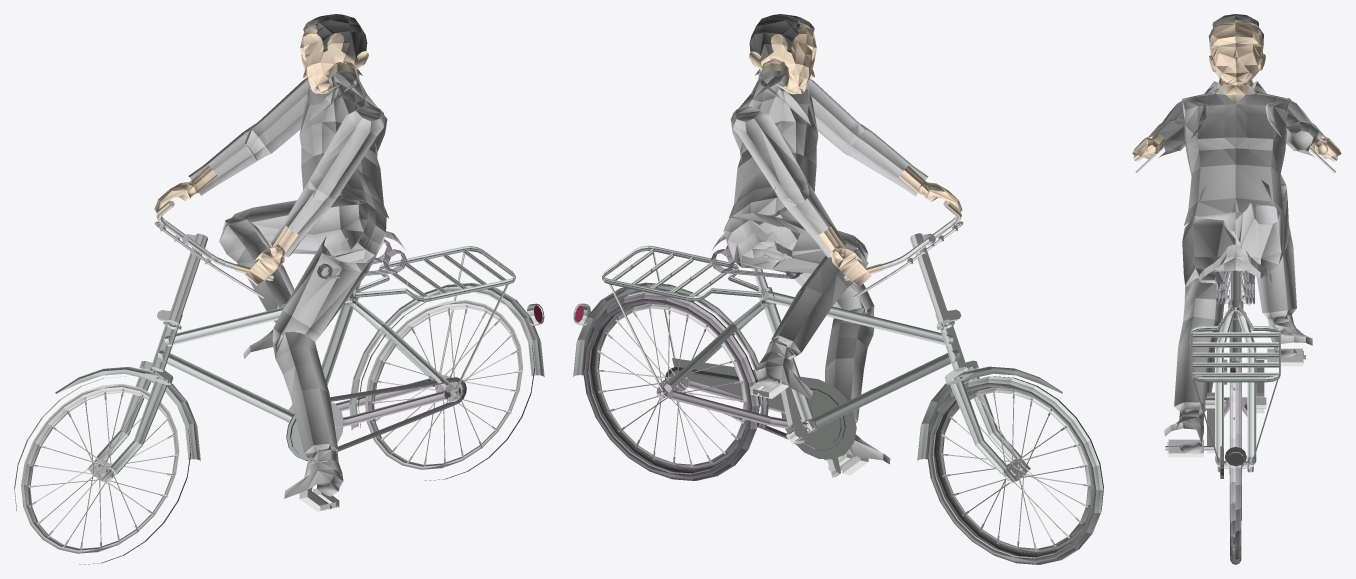
The model's file is bicycle.glb.
The picture shows the model from 3 angles, left to right: view 1: azimuth 30°, elevation 25°; view 2: azimuth 150°, elevation 25°; view 3: azimuth 270°, elevation 25°; orthographic projection.
Visible parts, largest first — view 1: Bicycle; view 2: Bicycle; view 3: Bicycle.
Boxes of the visible parts, box(x1,y1,x2,y2) form: Bicycle: box(14, 14, 544, 564); Bicycle: box(573, 14, 1103, 564); Bicycle: box(1132, 14, 1341, 564).
Size of the model in its own units: 1.19 by 1.05 by 0.4143.
Materials: 1 (1 with a texture image).
